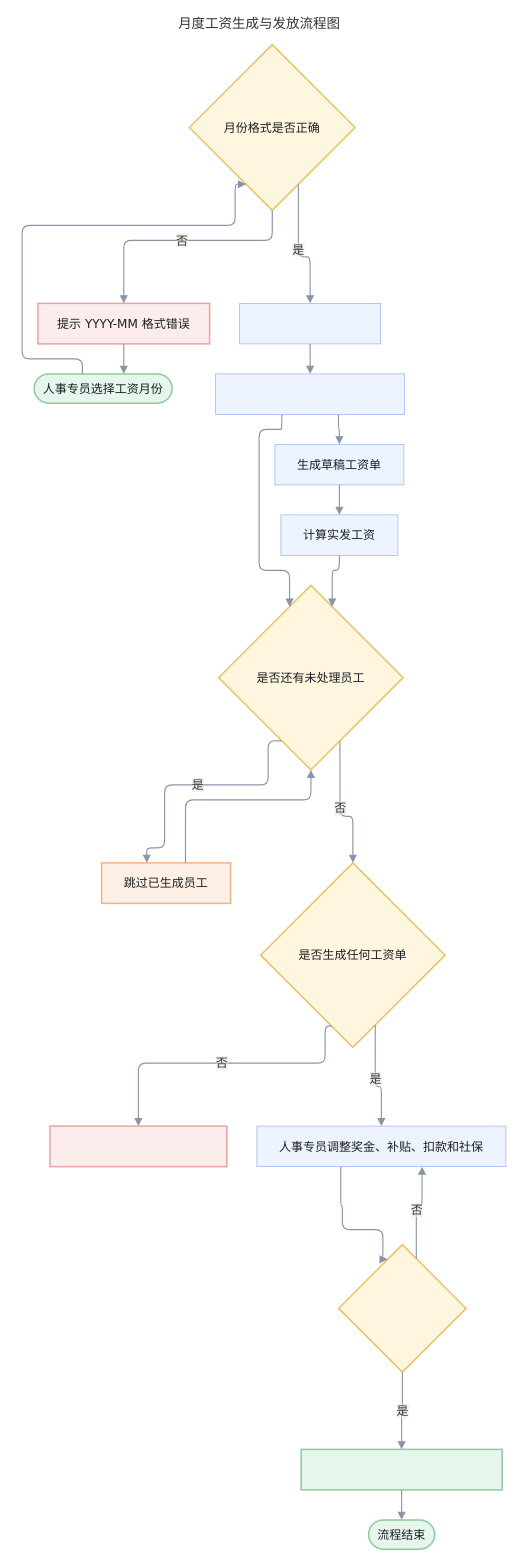
The diagram is 519 pixels wide and 1562 high, and some of its shapes have lost their labels. Here are the shapes that lost their labels. From the top down, the centre of each, then its label:
At (310,323): "读取全部在职员工".
At (310,393): "查询该月份已生成的工资单".
At (138,1146): "提示该月份工资单已生成".
At (402,1308): "是否确认发放".
At (401,1469): "更新为已发放并记录发放时间".
